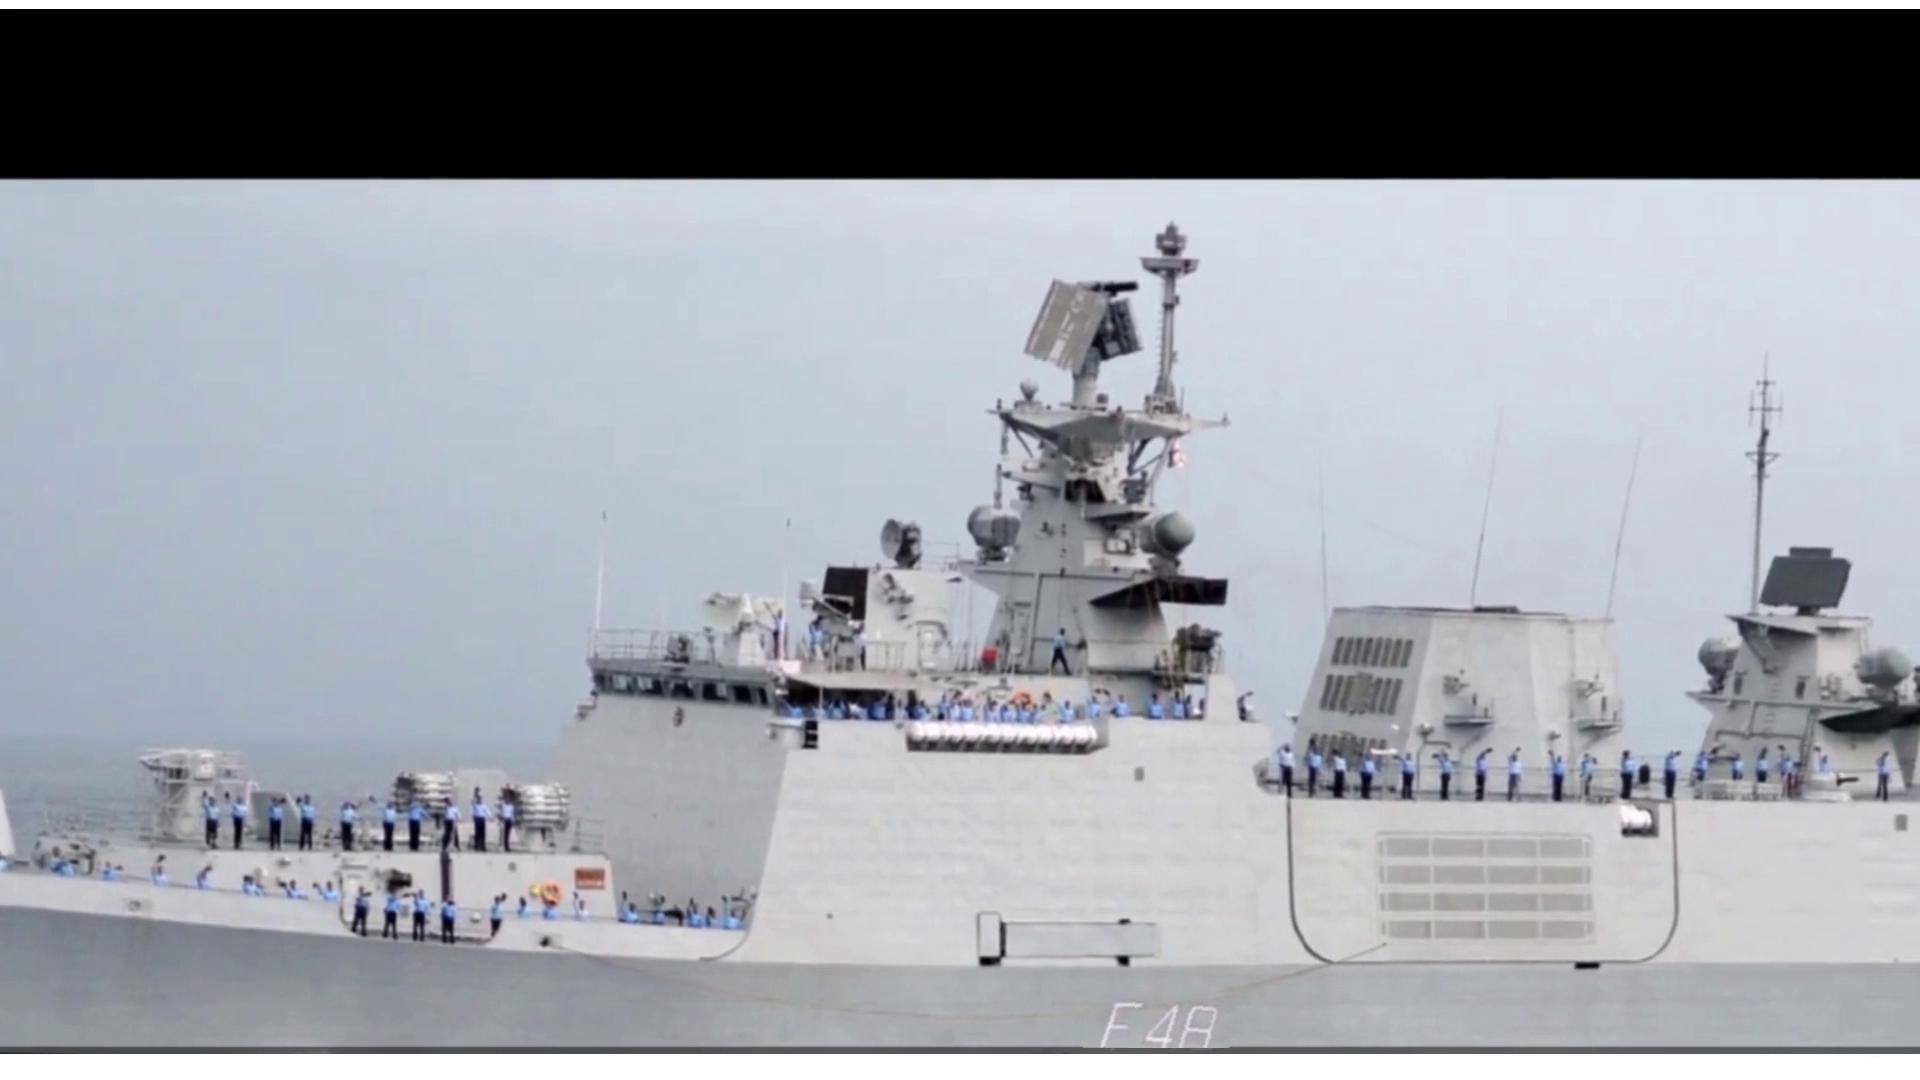OCR: (1082, 986, 1240, 1048)
